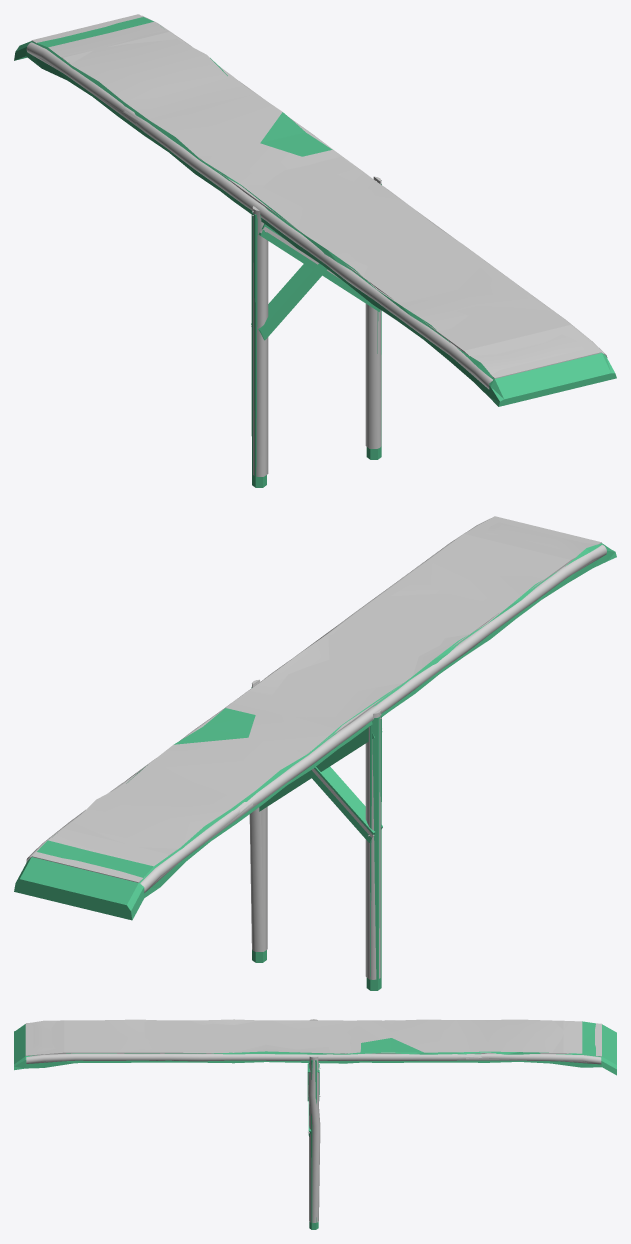
The model's file is jri_bridge_02_wood.dae.
3 renders of one model, top to bottom at view 1: azimuth 30°, elevation 25°; view 2: azimuth 150°, elevation 25°; view 3: azimuth 270°, elevation 25°, orthographic. The views are drawn at different scales.
Parts seen in each view (by area): view 1: ind_bld_a1300, ind_bld_a260, Colmesh-1; view 2: ind_bld_a1300, ind_bld_a260, Colmesh-1; view 3: ind_bld_a1300, ind_bld_a260, Colmesh-1.
Boxes of the visible parts, box(x1,y1,x2,y2) form: ind_bld_a1300: box(26, 15, 607, 476); ind_bld_a260: box(29, 14, 606, 448); Colmesh-1: box(14, 17, 616, 487); ind_bld_a1300: box(26, 519, 606, 979); ind_bld_a260: box(27, 516, 604, 951); Colmesh-1: box(14, 543, 616, 990); ind_bld_a1300: box(26, 1019, 601, 1222); ind_bld_a260: box(25, 1020, 601, 1222); Colmesh-1: box(14, 1021, 616, 1229).
Bounding box in the file's own units: 4.86 × 31.36 × 10.09.
